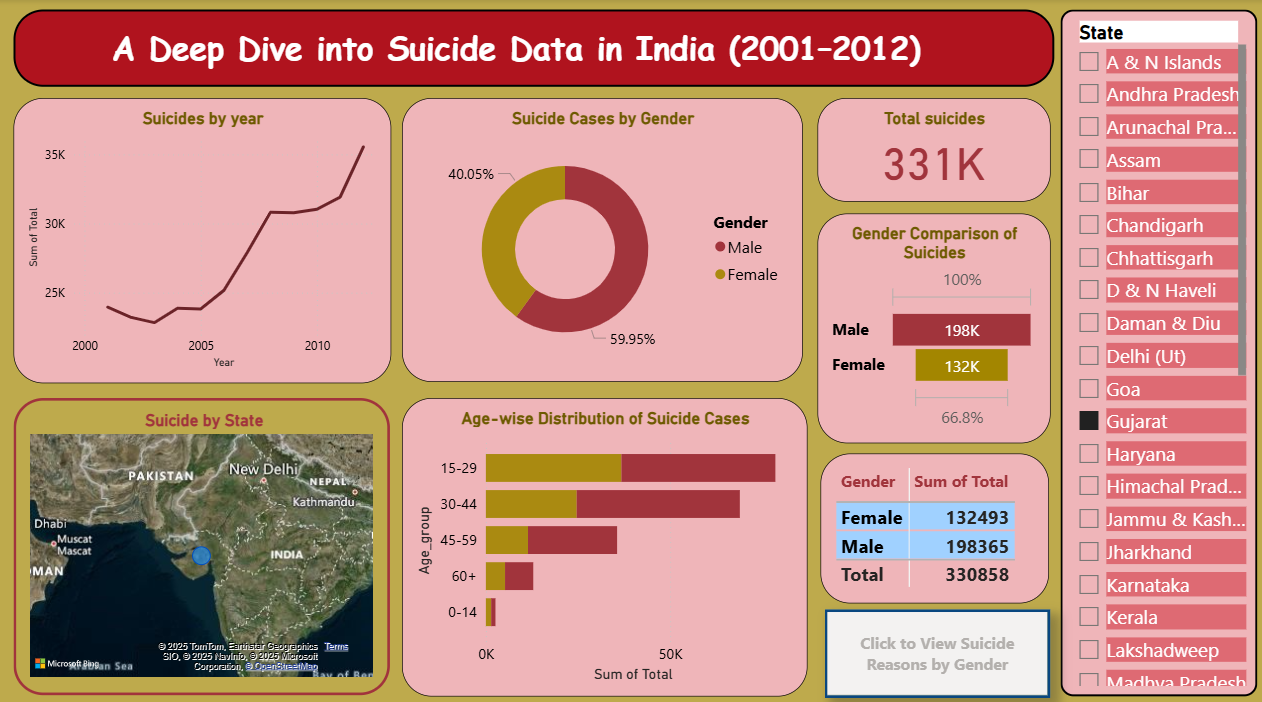

What the dashboard file says about the page in this screenshot:
{"tool":"powerbi","page":{"name":"Page 1","canvas":[1280,720],"ordinal":0},"visuals":[{"type":"lineChart","title":"Suicides by year","fields":{"Category":["Suicides in India 2001-2012.Year"],"Y":["Sum(Suicides in India 2001-2012.Total)"]},"box":[13.6,99.9,381.6,287.7],"z":0},{"type":"map","title":"Suicide by State","fields":{"Category":["Suicides in India 2001-2012.State"],"Size":["Sum(Suicides in India 2001-2012.Total)"]},"box":[13.6,402.8,380.1,299.8],"z":1000},{"type":"donutChart","title":"Suicide Cases by Gender","fields":{"Category":["Suicides in India 2001-2012.Gender"],"Y":["Sum(Suicides in India 2001-2012.Total)"]},"box":[406.4,100.4,404.8,286.6],"z":2000},{"type":"barChart","title":"Age-wise Distribution of Suicide Cases","fields":{"Category":["Suicides in India 2001-2012.Age_group"],"Y":["Sum(Suicides in India 2001-2012.Total)"],"Series":["Suicides in India 2001-2012.Gender"]},"box":[406.4,403.2,409.7,301.2],"z":3000},{"type":"slicer","fields":{"Values":["Suicides in India 2001-2012.State"]},"box":[1070.5,10.6,198.4,693.5],"z":4000},{"type":"card","title":"Total suicides","fields":{"Values":["Sum(Suicides in India 2001-2012.Total)"]},"box":[825.5,100.2,235.4,105],"z":5000},{"type":"funnel","title":"Gender Comparison of Suicides","fields":{"Y":["Sum(Suicides in India 2001-2012.Total)"],"Category":["Suicides in India 2001-2012.Gender"]},"box":[825.5,216.3,235.4,232.2],"z":6000},{"type":"tableEx","fields":{"Values":["Suicides in India 2001-2012.Gender","Sum(Suicides in India 2001-2012.Total)"]},"box":[828.7,458.1,230.6,151.1],"z":7000},{"type":"actionButton","box":[833.5,615.6,227.5,89.1],"z":8000},{"type":"textbox","box":[13,11.3,1050.9,77.7],"z":9000}]}

Visuals, with their boxes in screenshot pixels (x1, y1, x2, y2), scaled from the page's 1280x720 canvas onto the 1262x702 screenshot:
"Suicides by year" lineChart: left=13, top=97, right=390, bottom=378
"Suicide by State" map: left=13, top=393, right=388, bottom=685
"Suicide Cases by Gender" donutChart: left=401, top=98, right=800, bottom=377
"Age-wise Distribution of Suicide Cases" barChart: left=401, top=393, right=805, bottom=687
slicer - Suicides in India 2001-2012.State: left=1055, top=10, right=1251, bottom=686
"Total suicides" card: left=814, top=98, right=1046, bottom=200
"Gender Comparison of Suicides" funnel: left=814, top=211, right=1046, bottom=437
tableEx - Suicides in India 2001-2012.Gender x Sum(Suicides in India 2001-2012.Total): left=817, top=447, right=1044, bottom=594
actionButton: left=822, top=600, right=1046, bottom=687
textbox: left=13, top=11, right=1049, bottom=87
